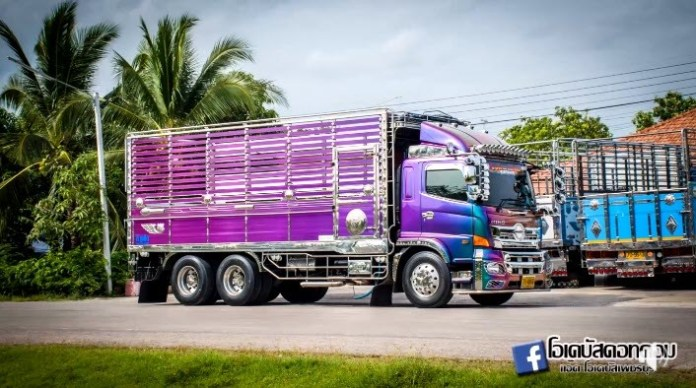truck: (123, 107, 551, 308)
